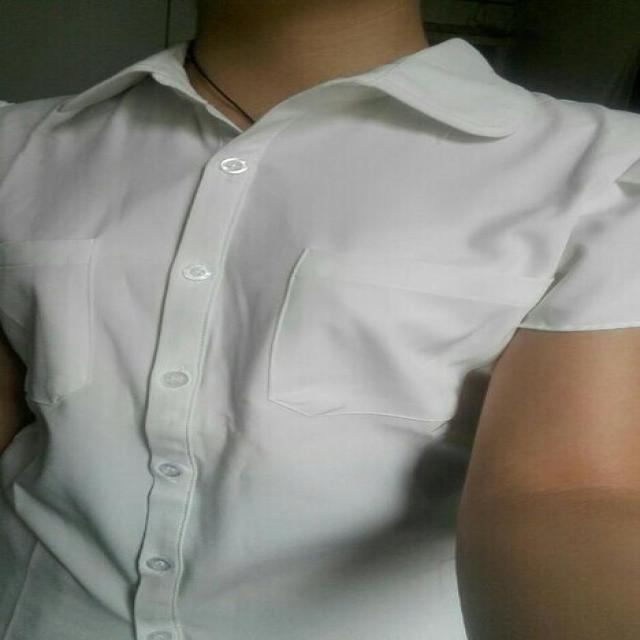short sleeve top: (1, 38, 633, 638)
